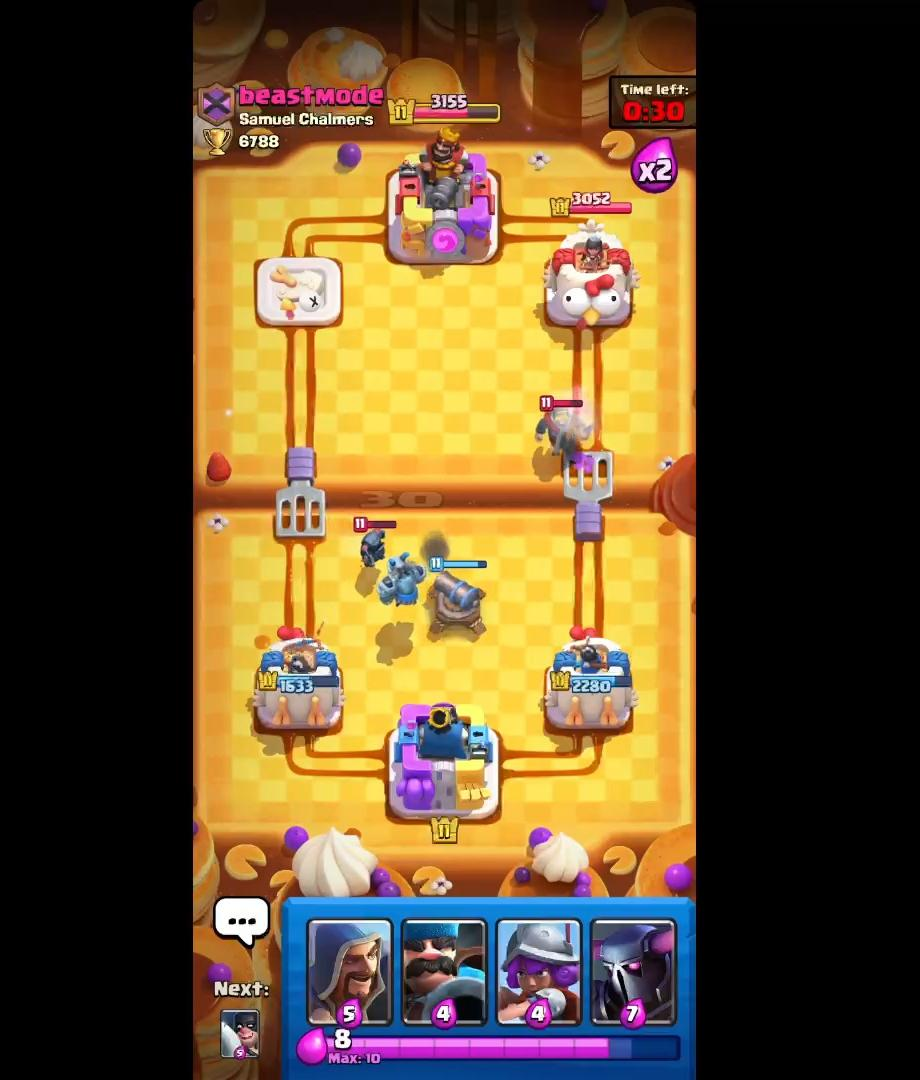Knight: (526, 391, 592, 457)
Mini Pekka: (347, 514, 395, 574)
